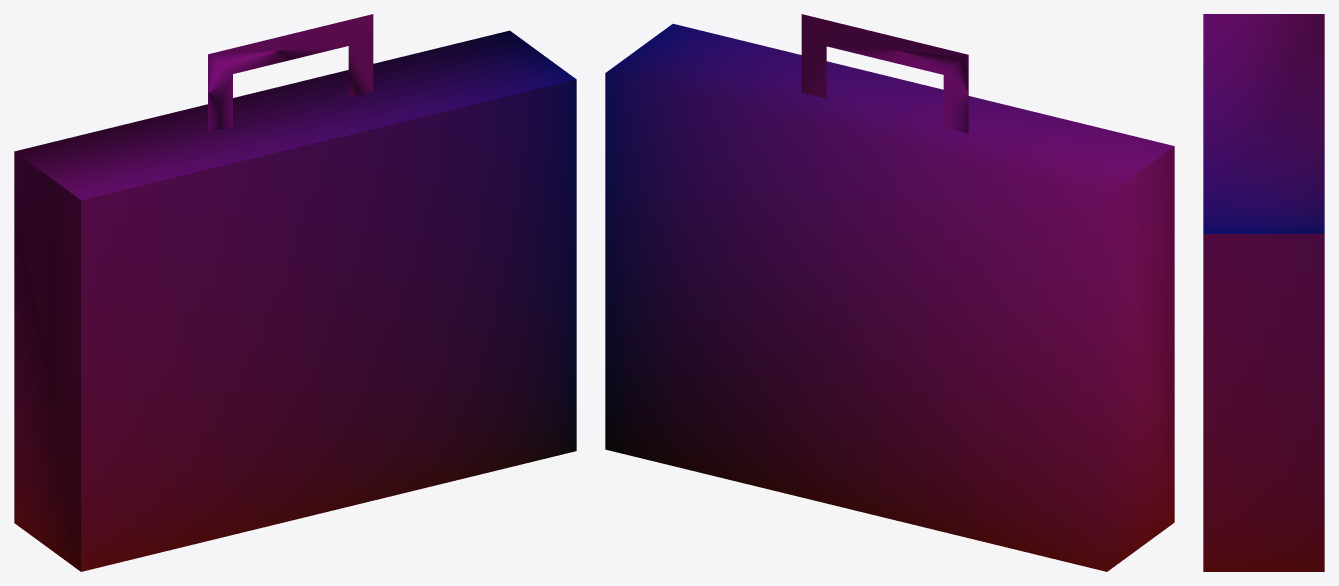
3 renders of one model, left to right at view 1: azimuth 30°, elevation 25°; view 2: azimuth 150°, elevation 25°; view 3: azimuth 270°, elevation 25°, orthographic. The views are drawn at different scales.
Parts seen in each view (by area): view 1: part; view 2: part; view 3: part.
Boxes of the visible parts, <box> form: part: <box>14,14,576,571</box>; part: <box>605,14,1174,571</box>; part: <box>1203,14,1324,571</box>.
Size of the model in its own units: 7740 by 6708 by 1806.
